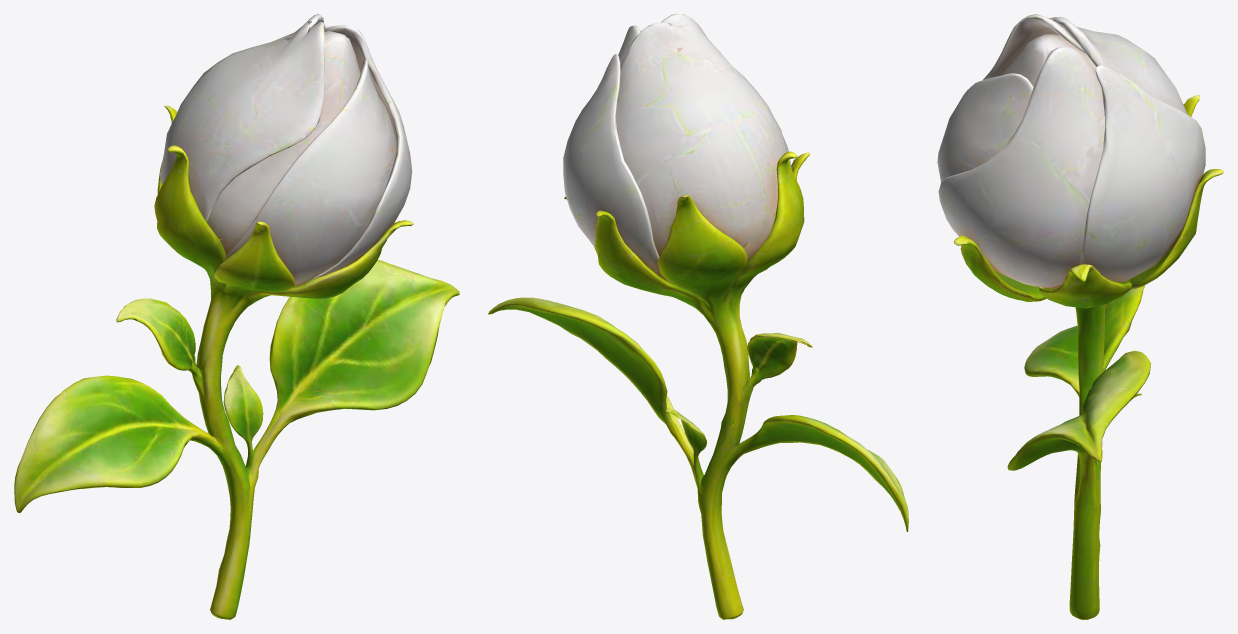
File: bud_white.glb
3 renders of one model, left to right at view 1: azimuth 30°, elevation 25°; view 2: azimuth 150°, elevation 25°; view 3: azimuth 270°, elevation 25°, orthographic. The views are drawn at different scales.
Parts seen in each view (by area): view 1: geometry_0; view 2: geometry_0; view 3: geometry_0.
Part boxes in pixels (x1,y1,x2,y2): geometry_0: [14, 14, 459, 619]; geometry_0: [488, 14, 908, 619]; geometry_0: [937, 14, 1223, 619].
Size of the model in its own units: 0.7417 by 0.9507 by 0.3843.
1 material, 1 textured.
